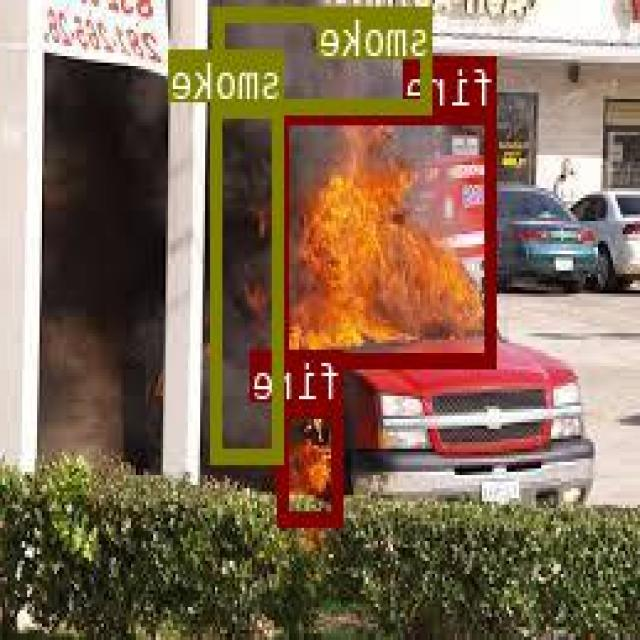fire: (282, 107, 498, 365), (280, 402, 344, 523)
smoke: (213, 101, 286, 461), (217, 6, 433, 110)
